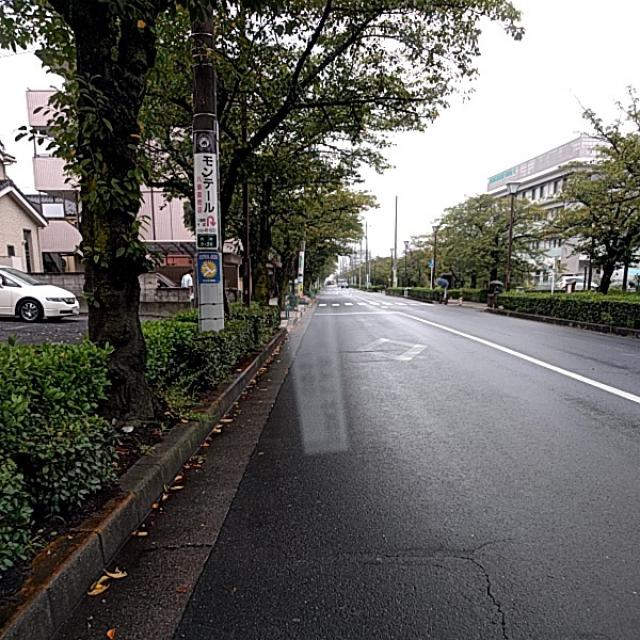pothole: (330, 528, 554, 602)
